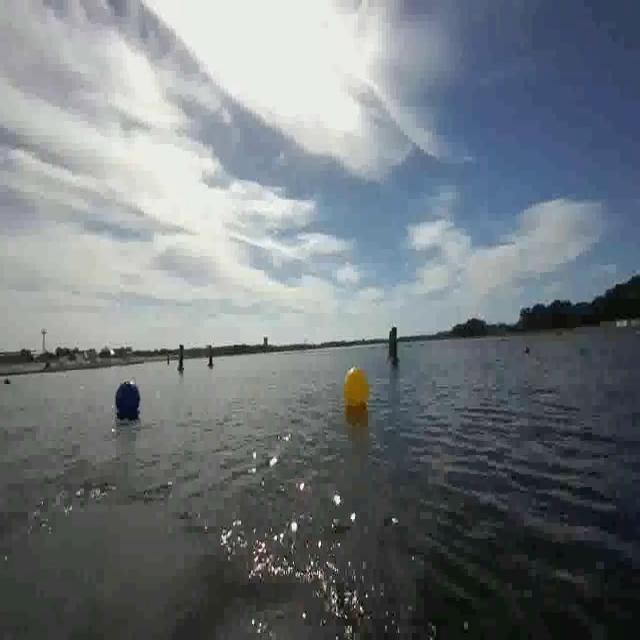blue-buoy: (116, 380, 142, 415)
green-column-buoy: (387, 326, 400, 366), (178, 344, 185, 372)
red-column-buoy: (208, 343, 215, 368)
yellow-buoy: (344, 367, 370, 407)
